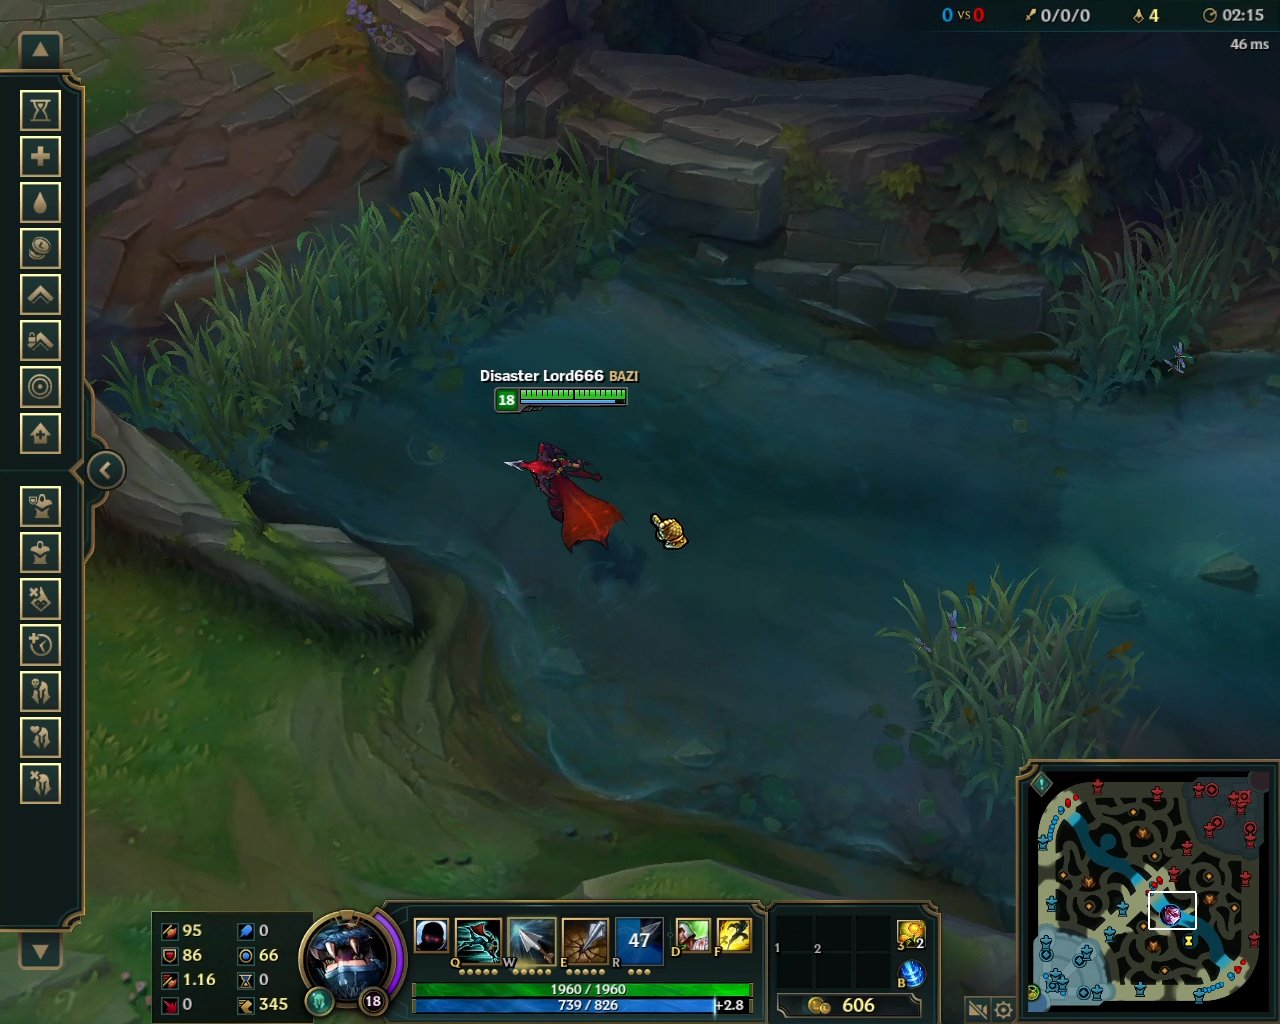Vayne: (498, 435, 632, 561)
